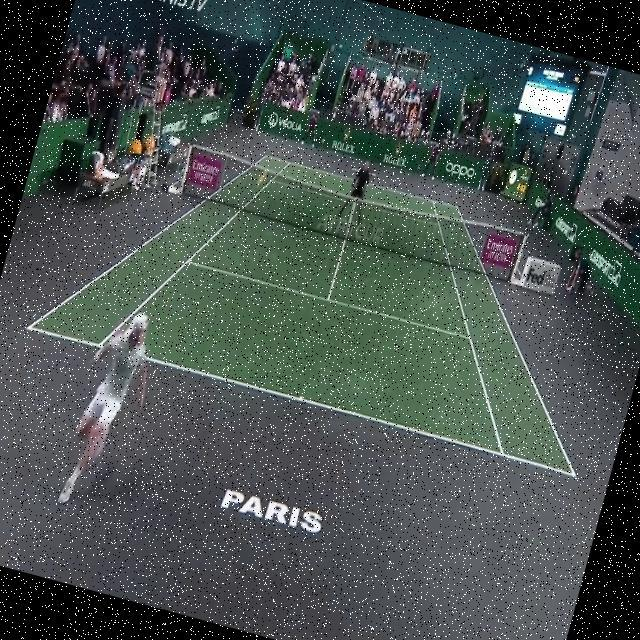court: (23, 105, 636, 478)
net: (180, 144, 524, 283)
player: (53, 298, 167, 518)
